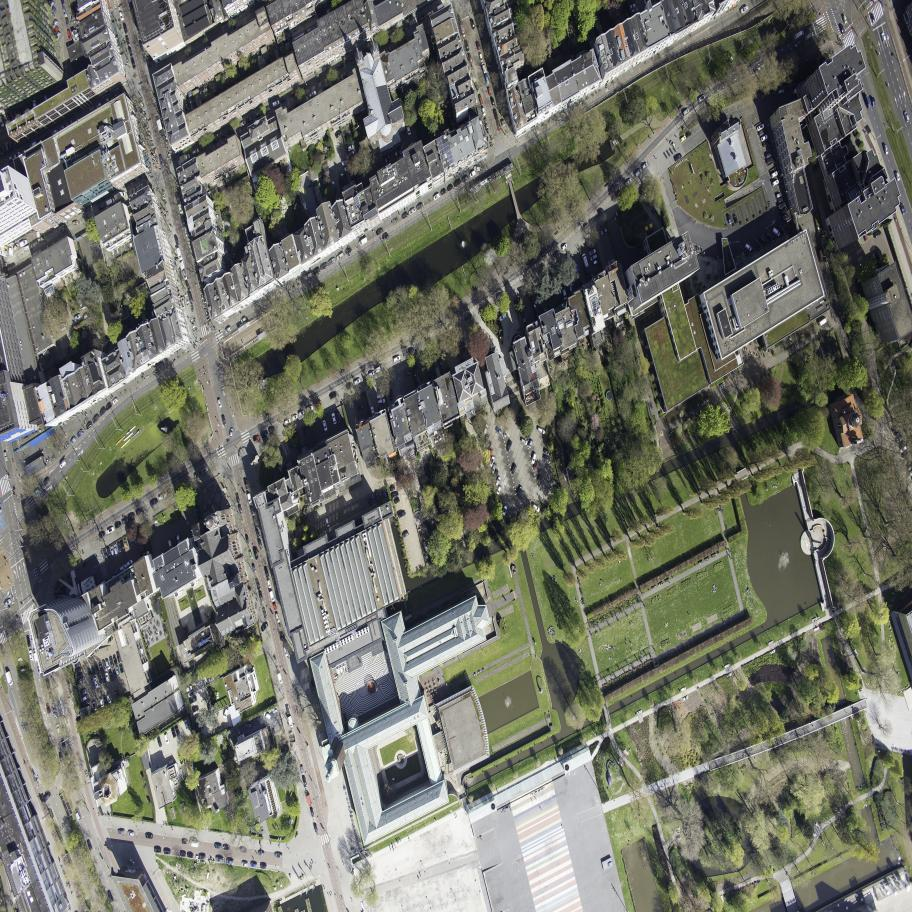large-vehicle: (465, 161, 516, 197)
small-vehicle: (178, 152, 192, 165), (156, 119, 165, 138), (863, 94, 873, 110), (5, 670, 14, 687), (538, 247, 550, 258), (803, 31, 815, 42), (817, 317, 829, 328), (357, 237, 370, 247), (792, 30, 805, 40), (581, 253, 589, 269), (175, 247, 184, 261), (259, 622, 270, 633), (514, 415, 525, 426), (80, 699, 92, 709), (105, 891, 115, 903), (244, 115, 256, 125), (305, 793, 313, 808), (326, 257, 338, 267), (530, 503, 542, 513), (739, 5, 751, 15), (74, 808, 83, 821), (484, 440, 493, 453), (287, 715, 295, 729), (459, 24, 467, 38), (187, 291, 195, 305), (50, 19, 60, 30), (91, 413, 101, 424), (2, 598, 13, 608), (893, 429, 903, 440), (42, 792, 52, 803), (374, 364, 385, 374), (498, 312, 509, 322), (542, 454, 553, 464), (633, 168, 643, 179), (771, 227, 782, 237), (157, 492, 168, 502), (894, 434, 905, 444), (48, 5, 57, 17), (276, 672, 284, 685), (404, 124, 412, 137), (482, 423, 490, 436), (530, 452, 538, 465), (899, 203, 907, 216), (98, 407, 108, 417), (58, 459, 68, 469), (392, 354, 402, 364), (623, 178, 633, 188), (765, 231, 775, 241), (758, 235, 768, 245), (898, 444, 908, 454), (54, 31, 63, 42), (20, 146, 31, 155), (105, 198, 116, 207), (18, 239, 29, 248), (307, 90, 318, 99), (262, 711, 273, 720), (335, 252, 346, 261), (319, 262, 330, 271), (303, 272, 314, 281), (356, 402, 367, 411), (149, 498, 160, 507), (431, 192, 442, 201), (407, 207, 418, 216), (536, 426, 547, 435), (452, 179, 463, 188), (12, 151, 23, 160), (344, 381, 355, 390), (696, 94, 707, 103), (755, 123, 766, 132), (778, 224, 787, 235), (776, 202, 787, 211), (872, 230, 883, 239), (188, 696, 199, 705), (32, 649, 39, 663), (252, 547, 259, 561), (130, 56, 137, 70), (482, 433, 490, 445), (488, 456, 496, 468), (882, 143, 890, 155), (874, 249, 882, 261), (163, 733, 171, 745), (106, 547, 113, 560), (101, 660, 108, 673), (108, 656, 115, 669), (48, 692, 55, 705), (335, 410, 342, 423), (331, 412, 338, 425), (258, 591, 265, 604), (269, 590, 276, 603), (516, 485, 523, 498), (506, 440, 513, 453), (574, 264, 581, 277), (903, 110, 910, 123), (122, 22, 129, 35), (127, 45, 134, 58), (158, 154, 165, 167), (109, 92, 119, 101), (72, 313, 82, 322), (104, 402, 114, 411), (84, 421, 94, 430), (76, 429, 85, 439), (69, 436, 78, 446), (42, 477, 51, 487), (32, 488, 42, 497), (39, 489, 48, 499), (106, 526, 116, 535), (97, 530, 107, 539), (292, 100, 302, 109), (328, 391, 338, 400), (313, 400, 323, 409), (260, 430, 270, 439), (312, 267, 322, 276), (435, 3, 445, 12), (352, 377, 362, 386), (438, 361, 448, 370), (447, 322, 457, 331), (519, 437, 529, 446), (494, 426, 504, 435), (614, 190, 624, 199), (495, 292, 505, 301), (673, 153, 683, 162), (47, 0, 56, 10), (599, 227, 609, 236), (681, 108, 691, 117), (552, 249, 562, 258), (463, 313, 473, 322), (743, 243, 753, 252), (805, 24, 815, 33), (193, 470, 203, 479), (196, 725, 206, 734), (769, 170, 779, 179), (52, 25, 60, 36), (86, 840, 94, 851), (184, 280, 192, 291), (460, 341, 468, 352), (606, 258, 617, 266), (494, 476, 502, 487), (118, 564, 129, 572), (189, 840, 200, 848), (94, 664, 101, 676), (98, 662, 105, 674), (237, 504, 244, 516), (257, 539, 264, 551), (331, 187, 338, 199), (525, 430, 532, 442), (501, 505, 508, 517), (839, 24, 846, 36), (869, 12, 876, 24), (726, 214, 733, 226), (156, 736, 163, 748), (167, 539, 174, 551), (171, 536, 178, 548), (174, 234, 180, 248), (44, 132, 53, 141), (334, 130, 343, 139), (426, 9, 435, 18), (468, 170, 477, 179), (668, 140, 677, 149), (679, 134, 688, 143), (29, 141, 39, 149), (79, 695, 89, 703), (322, 83, 332, 91), (271, 100, 281, 108), (300, 95, 310, 103), (305, 405, 315, 413), (417, 14, 427, 22), (390, 491, 400, 499), (397, 511, 407, 519), (415, 203, 425, 211), (400, 212, 410, 220), (589, 254, 599, 262), (375, 228, 385, 236), (757, 129, 767, 137), (759, 134, 769, 142), (779, 207, 789, 215), (781, 213, 791, 221), (127, 513, 137, 521), (194, 720, 204, 728), (125, 559, 135, 567), (186, 690, 196, 698), (770, 179, 780, 187), (765, 157, 775, 165), (120, 517, 130, 525), (8, 139, 14, 152), (302, 775, 308, 788), (464, 40, 470, 53), (481, 62, 487, 75), (562, 289, 568, 302), (112, 655, 119, 666), (55, 723, 62, 734), (249, 506, 256, 517), (255, 580, 262, 591), (894, 171, 901, 182), (458, 336, 465, 347), (732, 214, 739, 225), (841, 14, 848, 25), (880, 32, 887, 43), (870, 96, 877, 107), (183, 719, 190, 730), (174, 725, 181, 736), (170, 727, 177, 738), (12, 137, 18, 149), (62, 6, 68, 18), (67, 30, 73, 42), (58, 124, 67, 132), (111, 397, 120, 405), (110, 545, 116, 557), (103, 549, 109, 561), (28, 649, 34, 661), (77, 677, 86, 685), (93, 677, 99, 689), (108, 670, 114, 682), (46, 703, 52, 715), (336, 61, 345, 69), (290, 89, 299, 97), (238, 120, 247, 128), (226, 127, 235, 135), (239, 316, 248, 324), (322, 420, 328, 432), (268, 426, 277, 434), (252, 435, 261, 443), (243, 478, 249, 490), (254, 111, 263, 119), (252, 517, 258, 529), (244, 533, 250, 545), (264, 567, 270, 579), (262, 607, 268, 619), (275, 612, 281, 624), (283, 646, 289, 658), (263, 105, 272, 113), (346, 144, 355, 152), (347, 55, 356, 63), (342, 71, 351, 79), (411, 137, 420, 145), (401, 531, 410, 539), (381, 233, 390, 241), (344, 247, 353, 255), (484, 74, 490, 86), (478, 94, 484, 106), (496, 120, 502, 132), (461, 175, 470, 183), (560, 243, 569, 251), (630, 6, 639, 14), (640, 162, 649, 170), (6, 155, 15, 163), (705, 115, 714, 123), (588, 248, 597, 256), (596, 208, 605, 216), (491, 463, 497, 475), (125, 35, 131, 47), (219, 131, 228, 139), (211, 136, 220, 144), (191, 148, 200, 156), (224, 326, 233, 334), (200, 466, 209, 474), (116, 652, 122, 664), (185, 685, 194, 693), (223, 707, 229, 719), (114, 522, 123, 530), (178, 203, 184, 215), (184, 226, 190, 238), (182, 269, 188, 281), (90, 667, 97, 677), (329, 181, 336, 191), (527, 439, 534, 449), (862, 233, 869, 243), (32, 100, 38, 111), (1, 144, 7, 155), (26, 636, 32, 647), (87, 669, 93, 680), (113, 689, 119, 700), (105, 659, 111, 670), (90, 680, 96, 691), (112, 668, 118, 679), (45, 679, 51, 690), (52, 709, 58, 720), (37, 667, 43, 678), (247, 493, 253, 504), (235, 493, 241, 504), (255, 528, 261, 539), (325, 517, 331, 528), (299, 765, 305, 776), (370, 406, 376, 417), (481, 106, 487, 117), (470, 19, 476, 30), (511, 464, 517, 475), (386, 153, 392, 164), (503, 428, 509, 439), (493, 109, 499, 120), (585, 268, 591, 279), (533, 298, 539, 309), (493, 469, 499, 480), (869, 254, 875, 265), (119, 11, 125, 22), (221, 415, 227, 426), (118, 663, 124, 674), (181, 216, 187, 227), (536, 306, 541, 319), (120, 540, 125, 553), (103, 97, 111, 105), (543, 448, 551, 456), (685, 131, 693, 139), (65, 120, 74, 127), (279, 96, 288, 103), (79, 689, 88, 696), (13, 243, 20, 252), (297, 410, 306, 417), (298, 84, 307, 91), (244, 722, 253, 729), (274, 852, 283, 859), (398, 26, 407, 33), (364, 46, 373, 53), (347, 150, 356, 157), (407, 348, 416, 355), (367, 371, 376, 378), (376, 393, 385, 400), (343, 165, 352, 172), (591, 259, 600, 266), (768, 90, 777, 97), (764, 152, 773, 159), (191, 706, 200, 713), (186, 852, 195, 859), (214, 843, 223, 850), (17, 108, 23, 118), (113, 543, 118, 555), (106, 694, 112, 704), (60, 738, 66, 748), (36, 231, 41, 243), (9, 245, 14, 257), (248, 550, 254, 560), (397, 146, 403, 156), (382, 487, 388, 497), (487, 87, 493, 97), (383, 155, 389, 165), (533, 461, 539, 471), (490, 97, 496, 107), (496, 485, 502, 495), (569, 285, 574, 297), (839, 311, 845, 321), (139, 41, 144, 53), (221, 387, 227, 397), (217, 398, 223, 408), (176, 534, 182, 544), (95, 102, 103, 109), (51, 129, 59, 136), (81, 314, 89, 321), (74, 667, 82, 674), (76, 673, 84, 680), (98, 203, 106, 210), (291, 414, 299, 421), (284, 418, 292, 425), (239, 847, 247, 854), (393, 498, 401, 505), (440, 189, 448, 196), (446, 185, 454, 192), (473, 165, 481, 172), (762, 141, 770, 148), (777, 197, 785, 204), (136, 509, 144, 516), (775, 192, 783, 199), (65, 17, 70, 28), (25, 103, 30, 114), (5, 142, 10, 153), (92, 701, 97, 712), (103, 696, 108, 707), (105, 672, 110, 683), (98, 676, 103, 687), (30, 635, 35, 646), (476, 41, 481, 52), (578, 276, 583, 287), (43, 95, 49, 104), (288, 442, 297, 448), (272, 603, 278, 612), (313, 824, 319, 833), (377, 398, 386, 404), (379, 405, 388, 411), (759, 94, 768, 100), (145, 833, 154, 839), (215, 857, 224, 863), (389, 388, 393, 401), (13, 109, 18, 119), (10, 112, 15, 122), (100, 698, 105, 708), (367, 496, 372, 506), (252, 564, 257, 574), (267, 579, 272, 589), (375, 491, 380, 501), (427, 372, 432, 382), (468, 53, 473, 63), (479, 53, 484, 63), (488, 449, 493, 459), (537, 475, 542, 485), (123, 539, 128, 549), (129, 535, 134, 545), (115, 666, 120, 676), (223, 844, 230, 851), (250, 862, 258, 868), (391, 30, 399, 36), (389, 486, 397, 492), (777, 89, 785, 95), (784, 86, 792, 92), (342, 160, 350, 166), (117, 541, 121, 553), (154, 847, 162, 853), (163, 849, 171, 855), (179, 851, 187, 857), (198, 854, 206, 860), (101, 674, 106, 683), (371, 494, 376, 503), (229, 428, 234, 437), (280, 633, 285, 642), (310, 808, 315, 817), (142, 55, 147, 64), (59, 752, 63, 763), (74, 662, 81, 668), (72, 220, 79, 226), (242, 861, 249, 867), (7, 114, 11, 124), (523, 317, 527, 327), (134, 535, 138, 545), (394, 148, 398, 157), (258, 851, 265, 856), (260, 864, 267, 869), (629, 4, 636, 9), (128, 831, 135, 836), (181, 839, 188, 844), (405, 371, 412, 375), (118, 830, 125, 834)
